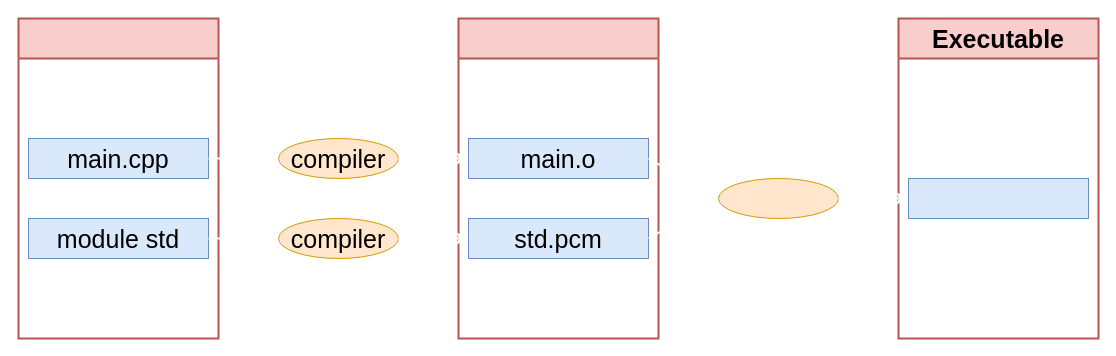
Image size: 1116x356. Some labels were removed from this diagram. The shapes that lost their labels are listed below. From the top down, each one's box as (x1, y1, x2, y2) in pixels, then its label:
(17, 17, 219, 339): Source code
(457, 17, 659, 339): Object files
(718, 178, 838, 218): linker
(908, 178, 1088, 218): helloworld
